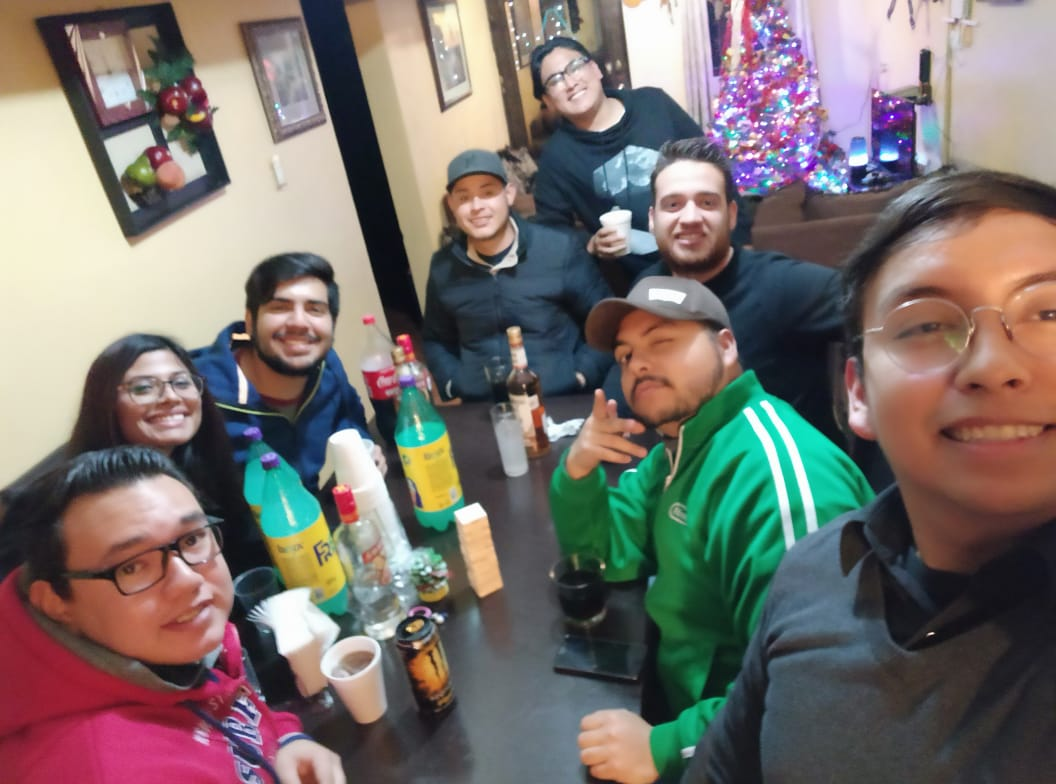Yoshi: (535, 257, 781, 554)
